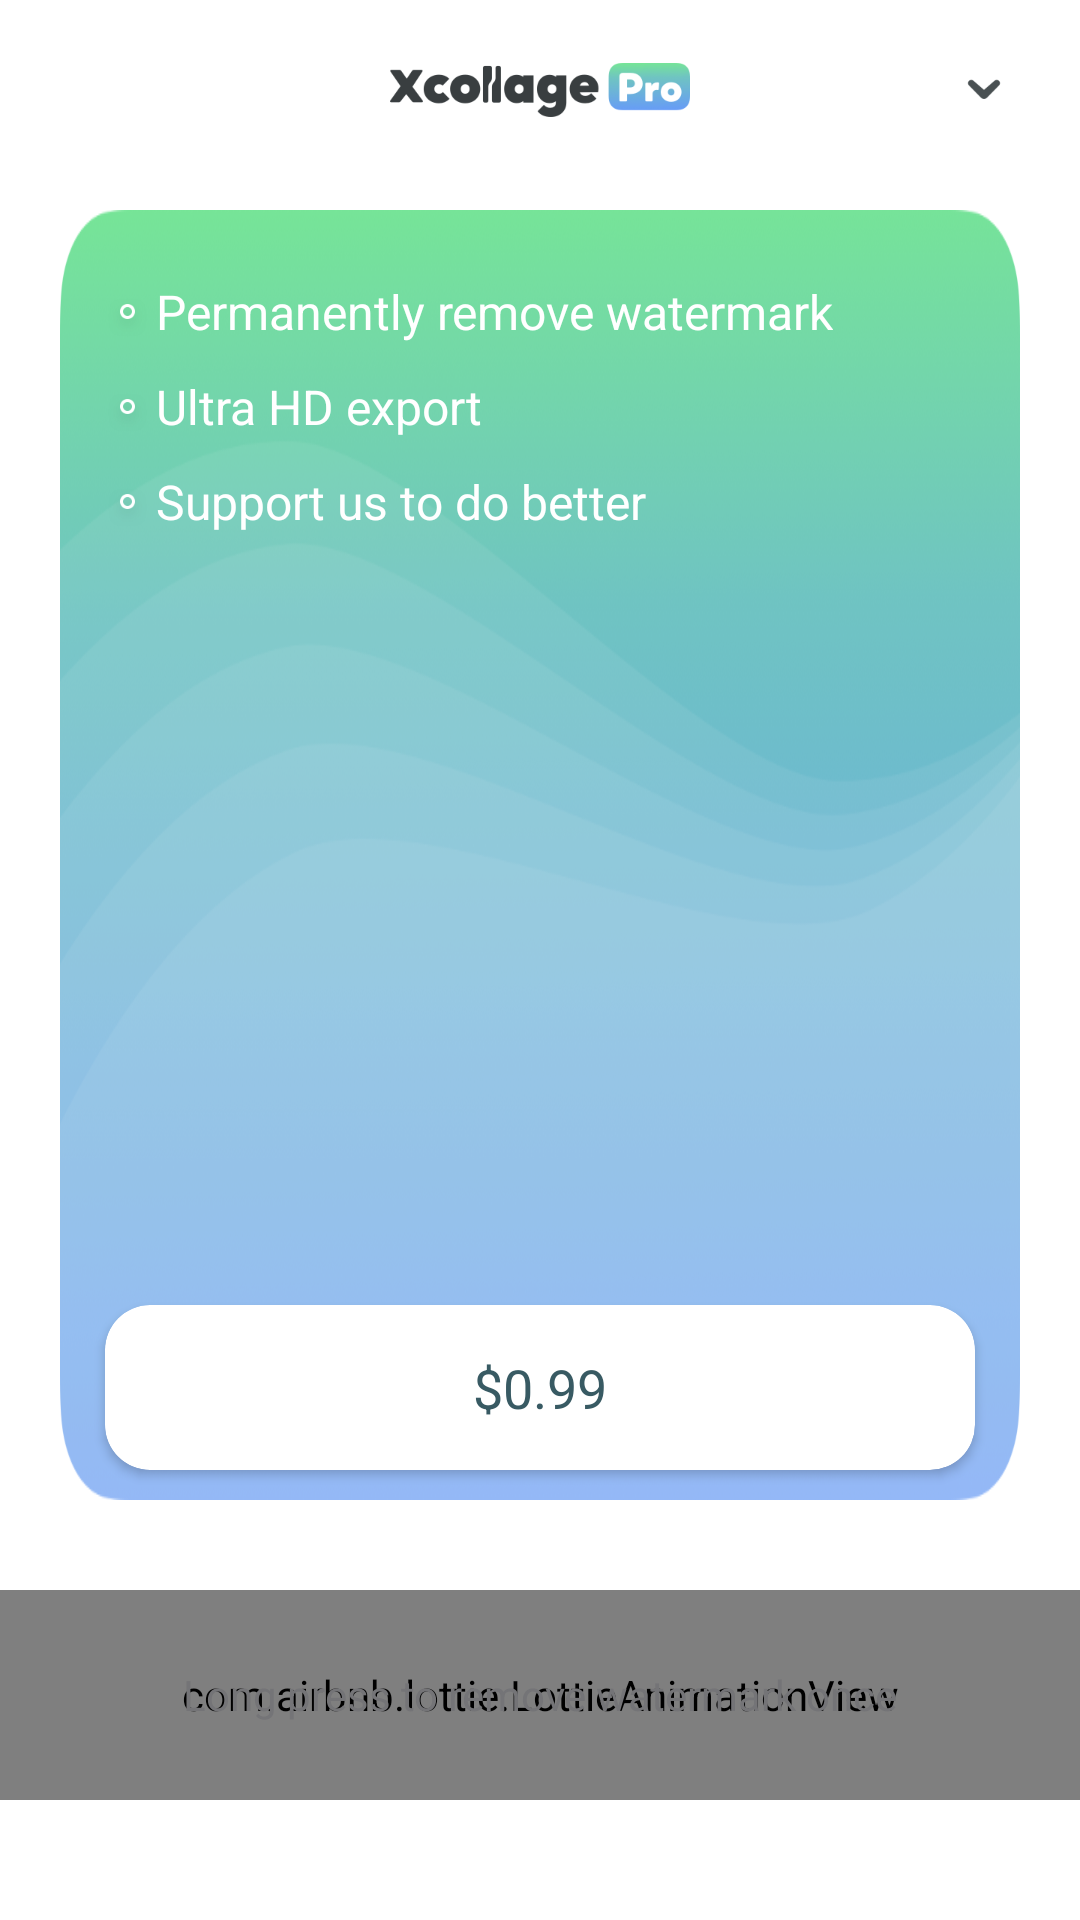

Screen size 1080 × 1920. Icon name, then its box in pixels as (x1=x1, y1=y1, x2=x2, y2=y2):
pro close: (x1=968, y1=79, x2=1000, y2=99)
